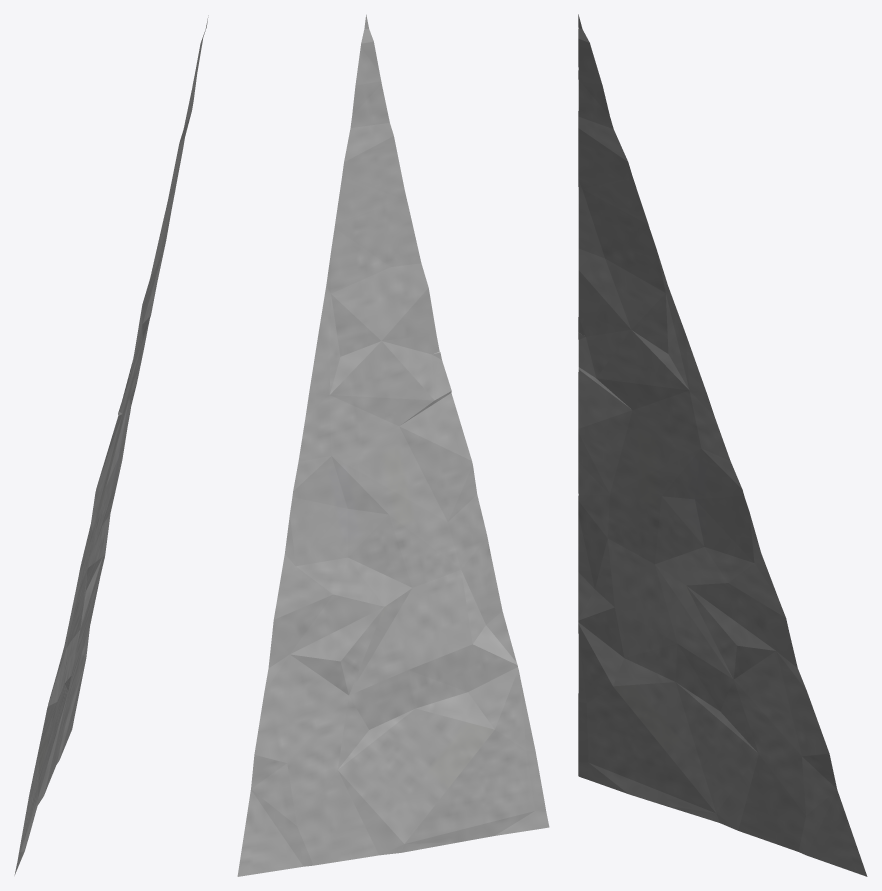
The picture shows the model from 3 angles, left to right: view 1: azimuth 30°, elevation 25°; view 2: azimuth 150°, elevation 25°; view 3: azimuth 270°, elevation 25°; orthographic projection. The views are drawn at different scales.
Size of the model in its own units: 0.1422 by 0.5698 by 0.1729.
Materials: 1 (1 with a texture image).
